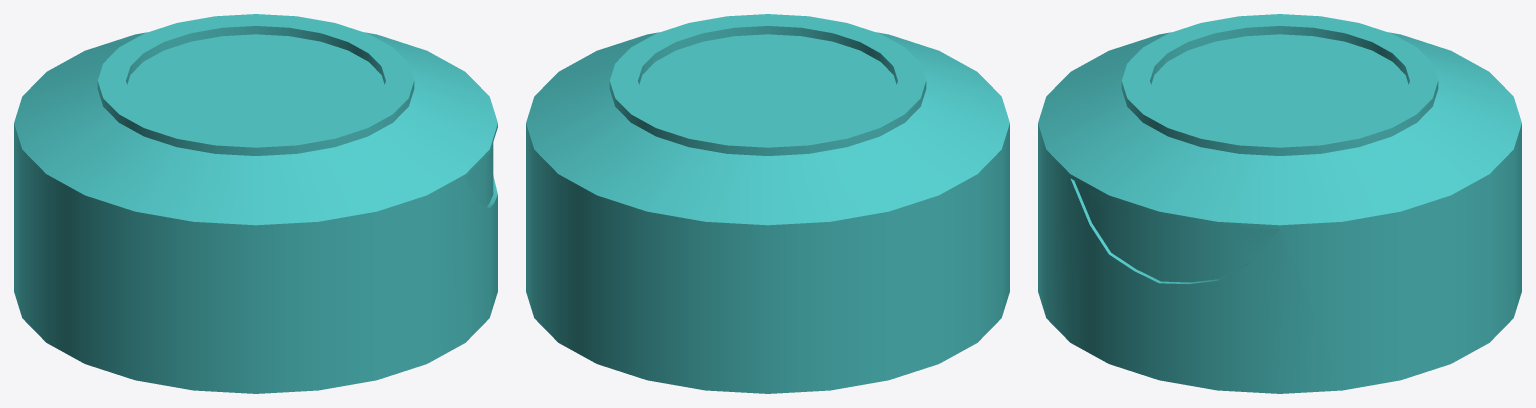
Rendered from original-2.obj.
3 renders of one model, left to right at view 1: azimuth 30°, elevation 25°; view 2: azimuth 150°, elevation 25°; view 3: azimuth 270°, elevation 25°, orthographic.
Visible parts, largest first — view 1: Component_2_1/Component_2/mesh2/mesh2-geometry#mesh2-geometry; view 2: Component_2_1/Component_2/mesh2/mesh2-geometry#mesh2-geometry; view 3: Component_2_1/Component_2/mesh2/mesh2-geometry#mesh2-geometry.
Boxes of the visible parts, x1,y1,x2,y2 form: Component_2_1/Component_2/mesh2/mesh2-geometry#mesh2-geometry: (14, 14, 497, 393); Component_2_1/Component_2/mesh2/mesh2-geometry#mesh2-geometry: (526, 14, 1009, 393); Component_2_1/Component_2/mesh2/mesh2-geometry#mesh2-geometry: (1038, 14, 1521, 393).
Bounding box in the file's own units: 0.6924 × 0.3329 × 0.6924.
